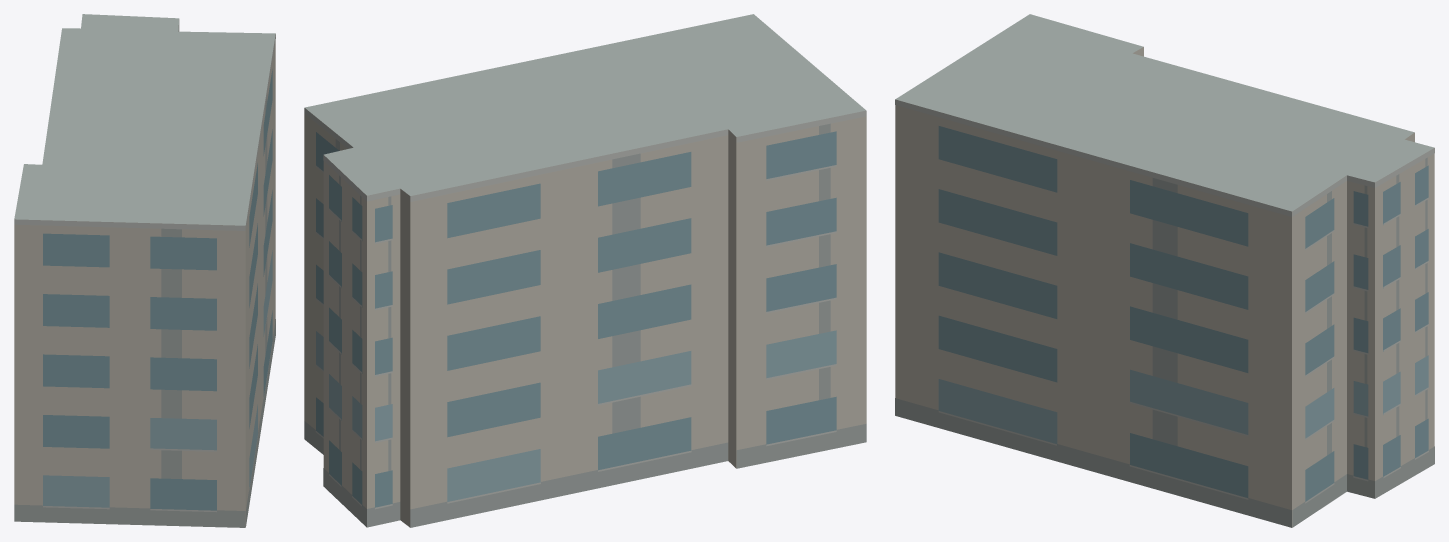
Rendered from survey-upis-33006744.glb.
3 views of the same model, side by side, from view 1: azimuth 30°, elevation 25°; view 2: azimuth 150°, elevation 25°; view 3: azimuth 270°, elevation 25° (orthographic). The views are drawn at different scales.
Visible parts, largest first — view 1: survey-upis-33006744.tmp; view 2: survey-upis-33006744.tmp; view 3: survey-upis-33006744.tmp.
Part boxes in pixels (x1,y1,x2,y2): survey-upis-33006744.tmp: [14, 14, 275, 527]; survey-upis-33006744.tmp: [304, 14, 866, 527]; survey-upis-33006744.tmp: [895, 14, 1434, 527].
Bounding box in the file's own units: 18.63 × 13.9 × 21.5.
